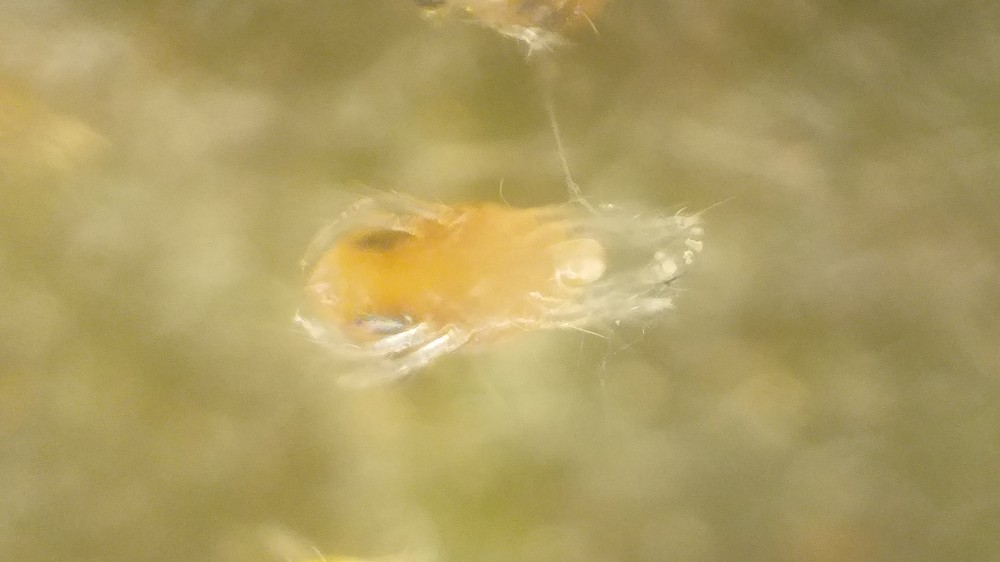Aracnido Rojo: (268, 147, 744, 405)
